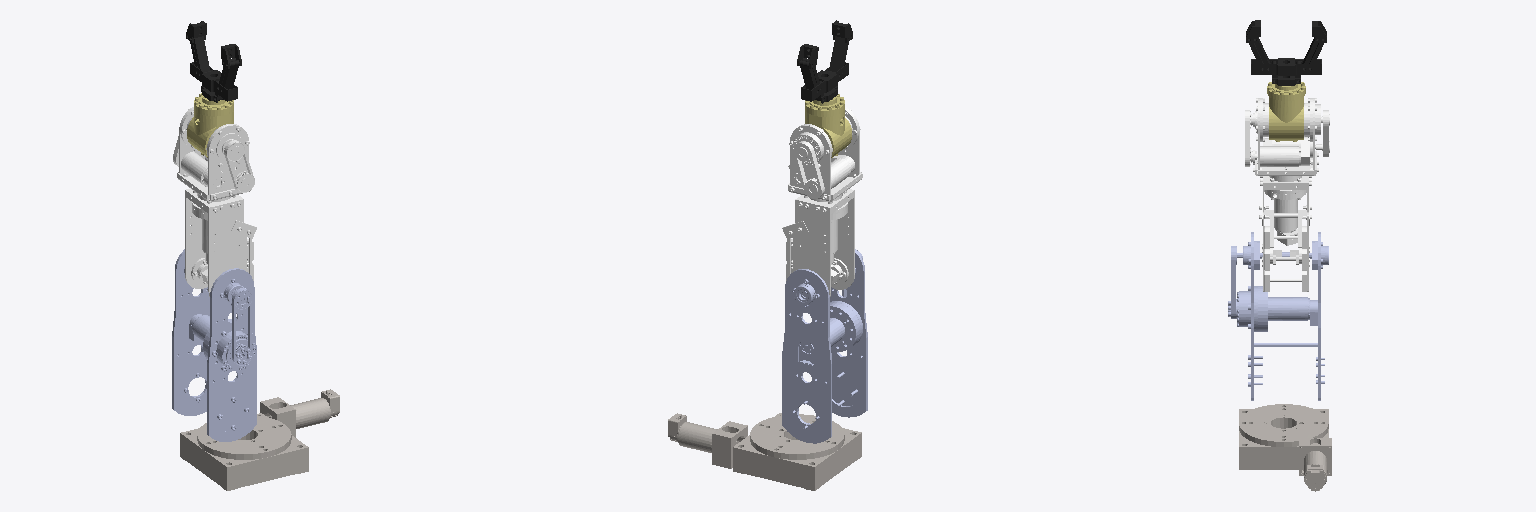
The robot description file, URDF, robot "redwall":
<?xml version="1.0" encoding="utf-8"?>
<!-- This URDF was automatically created by SolidWorks to URDF Exporter! Originally created by [author] ([email redacted]) 
     Commit Version: 1.6.0-4-g7f85cfe  Build Version: 1.6.7995.38578
     For more information, please see http://wiki.ros.org/sw_urdf_exporter -->
<robot
  name="redwall">
  <link
    name="base_link">
    <!--<inertial>
      <origin
        xyz="-0.060357 0.082702 -0.015929"
        rpy="0 0 0" />
      <mass
        value="1.2015" />
      <inertia
        ixx="0.0024916"
        ixy="-0.00026475"
        ixz="-3.8866E-05"
        iyy="0.0028144"
        iyz="-2.2136E-05"
        izz="0.0048028" />
    </inertial>-->
    <visual>
      <origin
        xyz="0 0 0"
        rpy="0 0 0" />
      <geometry>
        <mesh
          filename="package://redwall/meshes/base_link.STL" />
      </geometry>
      <material
        name="">
        <color
          rgba="0.77647 0.75686 0.73725 1" />
      </material>
    </visual>
    <collision>
      <origin
        xyz="0 0 0"
        rpy="0 0 0" />
      <geometry>
        <mesh
          filename="package://redwall/meshes/base_link.STL" />
      </geometry>
    </collision>
  </link>
  <link
    name="lumbar">
    <inertial>
      <origin
        xyz="0.0052643 -0.012448 0.077513"
        rpy="0 0 0" />
      <mass
        value="1.4502" />
      <inertia
        ixx="0.0013727"
        ixy="-1.0699E-06"
        ixz="2.2405E-05"
        iyy="0.0033655"
        iyz="4.3647E-06"
        izz="0.0034979" />
    </inertial>
    <visual>
      <origin
        xyz="0 0 0"
        rpy="0 0 0" />
      <geometry>
        <mesh
          filename="package://redwall/meshes/lumbar.STL" />
      </geometry>
      <material
        name="">
        <color
          rgba="0.79216 0.81961 0.93333 1" />
      </material>
    </visual>
    <collision>
      <origin
        xyz="0 0 0"
        rpy="0 0 0" />
      <geometry>
        <mesh
          filename="package://redwall/meshes/lumbar.STL" />
      </geometry>
    </collision>
  </link>
  <joint
    name="lumbar"
    type="revolute">
    <origin
      xyz="-0.076 0.076 -0.016"
      rpy="0 0 0" />
    <parent
      link="base_link" />
    <child
      link="lumbar" />
    <axis
      xyz="0 0 1" />
    <limit
      lower="-3.14"
      upper="3.14"
      effort="100"
      velocity="1" />
  </joint>
  <link
    name="big_arm">
    <inertial>
      <origin
        xyz="0.00011319 -0.12079 -0.034203"
        rpy="0 0 0" />
      <mass
        value="0.66863" />
      <inertia
        ixx="0.0015317"
        ixy="5.8543E-08"
        ixz="-8.2823E-09"
        iyy="0.00030356"
        iyz="-6.108E-08"
        izz="0.0016632" />
    </inertial>
    <visual>
      <origin
        xyz="0 0 0"
        rpy="0 0 0" />
      <geometry>
        <mesh
          filename="package://redwall/meshes/big_arm.STL" />
      </geometry>
      <material
        name="">
        <color
          rgba="0.79216 0.81961 0.93333 1" />
      </material>
    </visual>
    <collision>
      <origin
        xyz="0 0 0"
        rpy="0 0 0" />
      <geometry>
        <mesh
          filename="package://redwall/meshes/big_arm.STL" />
      </geometry>
    </collision>
  </link>
  <joint
    name="big_arm"
    type="revolute">
    <origin
      xyz="-0.053512 0.014 0.099023"
      rpy="-1.5708 0 0" />
    <parent
      link="lumbar" />
    <child
      link="big_arm" />
    <axis
      xyz="0 0 1" />
    <limit
      lower="-3.14"
      upper="3.14"
      effort="100"
      velocity="1" />
  </joint>
  <link
    name="small_arm">
    <inertial>
      <origin
        xyz="0.035276 -0.093957 5.5065E-06"
        rpy="0 0 0" />
      <mass
        value="0.67198" />
      <inertia
        ixx="0.00038552"
        ixy="2.1528E-05"
        ixz="-3.3983E-07"
        iyy="0.00032191"
        iyz="-1.0564E-07"
        izz="0.00041472" />
    </inertial>
    <visual>
      <origin
        xyz="0 0 0"
        rpy="0 0 0" />
      <geometry>
        <mesh
          filename="package://redwall/meshes/small_arm.STL" />
      </geometry>
      <material
        name="">
        <color
          rgba="1 1 1 1" />
      </material>
    </visual>
    <collision>
      <origin
        xyz="0 0 0"
        rpy="0 0 0" />
      <geometry>
        <mesh
          filename="package://redwall/meshes/small_arm.STL" />
      </geometry>
    </collision>
  </link>
  <joint
    name="small_arm"
    type="revolute">
    <origin
      xyz="1.2306E-05 -0.21498 -0.0105"
      rpy="0 0 -0.30425" />
    <parent
      link="big_arm" />
    <child
      link="small_arm" />
    <axis
      xyz="0 0 1" />
    <limit
      lower="-3.14"
      upper="3.14"
      effort="100"
      velocity="1" />
  </joint>
  <link
    name="wrist">
    <inertial>
      <origin
        xyz="0.00087927 0.002213 0.050733"
        rpy="0 0 0" />
      <mass
        value="1.7041" />
      <inertia
        ixx="0.001032"
        ixy="1.306E-05"
        ixz="-4.2399E-06"
        iyy="0.0003985"
        iyz="-3.0063E-05"
        izz="0.0010323" />
    </inertial>
    <visual>
      <origin
        xyz="0 0 0"
        rpy="0 0 0" />
      <geometry>
        <mesh
          filename="package://redwall/meshes/wrist.STL" />
      </geometry>
      <material
        name="">
        <color
          rgba="1 1 1 1" />
      </material>
    </visual>
    <collision>
      <origin
        xyz="0 0 0"
        rpy="0 0 0" />
      <geometry>
        <mesh
          filename="package://redwall/meshes/wrist.STL" />
      </geometry>
    </collision>
  </link>
  <joint
    name="wrist"
    type="revolute">
    <origin
      xyz="0.045929 -0.14627 0"
      rpy="1.5708 0 0.30425" />
    <parent
      link="small_arm" />
    <child
      link="wrist" />
    <axis
      xyz="0 0 1" />
    <limit
      lower="-3.14"
      upper="3.14"
      effort="100"
      velocity="1" />
  </joint>
  <link
    name="hand">
    <inertial>
      <origin
        xyz="-1.7337E-05 -0.026365 0.035987"
        rpy="0 0 0" />
      <mass
        value="0.41136" />
      <inertia
        ixx="0.00030793"
        ixy="6.8464E-07"
        ixz="3.2159E-08"
        iyy="0.00024664"
        iyz="-3.7274E-08"
        izz="0.00035796" />
    </inertial>
    <visual>
      <origin
        xyz="0 0 0"
        rpy="0 0 0" />
      <geometry>
        <mesh
          filename="package://redwall/meshes/hand.STL" />
      </geometry>
      <material
        name="">
        <color
          rgba="0.84314 0.81569 0.55686 1" />
      </material>
    </visual>
    <collision>
      <origin
        xyz="0 0 0"
        rpy="0 0 0" />
      <geometry>
        <mesh
          filename="package://redwall/meshes/hand.STL" />
      </geometry>
    </collision>
  </link>
  <joint
    name="hand"
    type="revolute">
    <origin
      xyz="0 -0.035 0.10019"
      rpy="-1.5708 0 0" />
    <parent
      link="wrist" />
    <child
      link="hand" />
    <axis
      xyz="0 0 1" />
    <limit
      lower="-3.14"
      upper="3.14"
      effort="100"
      velocity="1" />
  </joint>
  
  <link
    name="finger">
    <inertial>
      <origin
        xyz="-8.2325E-05 -7.2826E-06 0.051498"
        rpy="0 0 0" />
      <mass
        value="0.086637" />
      <inertia
        ixx="3.1953E-05"
        ixy="-1.6941E-20"
        ixz="-8.4703E-22"
        iyy="1.6358E-05"
        iyz="1.8166E-09"
        izz="2.484E-05" />
    </inertial>
    <visual>
      <origin
        xyz="0 0 0"
        rpy="0 0 0" />
      <geometry>
        <mesh
          filename="package://redwall/meshes/finger.STL" />
      </geometry>
      <material
        name="">
        <color
          rgba="0.2 0.2 0.2 1" />
      </material>
    </visual>
    <collision>
      <origin
        xyz="0 0 0"
        rpy="0 0 0" />
      <geometry>
        <mesh
          filename="package://redwall/meshes/finger.STL" />
      </geometry>
    </collision>
  </link>
  <joint
    name="finger"
    type="revolute">
    <origin
      xyz="0 -0.065987 0.036001"
      rpy="1.5708 0 0" />
    <parent
      link="hand" />
    <child
      link="finger" />
    <axis
      xyz="0 0 -1" />
    <limit
      lower="-3.14"
      upper="3.14"
      effort="100"
      velocity="1" />
  </joint>
</robot>

--- Render facts (derived) ---
The picture shows the robot from 3 angles, left to right: view 1: azimuth 30°, elevation 25°; view 2: azimuth 150°, elevation 25°; view 3: azimuth 270°, elevation 25°; orthographic projection.
Model redwall with 7 links and 6 joints (6 revolute), rooted at base_link, posed all joints at 0.
Visible links, largest first — view 1: big_arm, base_link, small_arm, wrist, finger, hand; view 2: big_arm, base_link, small_arm, wrist, finger, hand; view 3: base_link, big_arm, small_arm, wrist, finger, hand.
Link boxes in pixels (bbox=[...]): big_arm: bbox=[172, 249, 256, 441]; base_link: bbox=[180, 389, 339, 490]; small_arm: bbox=[185, 188, 256, 296]; wrist: bbox=[173, 107, 254, 200]; finger: bbox=[186, 21, 241, 102]; hand: bbox=[187, 93, 233, 157]; big_arm: bbox=[782, 249, 867, 443]; base_link: bbox=[668, 413, 861, 490]; small_arm: bbox=[782, 189, 854, 296]; wrist: bbox=[788, 107, 862, 201]; finger: bbox=[797, 20, 852, 103]; hand: bbox=[805, 94, 851, 157]; base_link: bbox=[1239, 404, 1331, 491]; big_arm: bbox=[1228, 232, 1328, 400]; small_arm: bbox=[1259, 176, 1311, 291]; wrist: bbox=[1245, 98, 1329, 175]; finger: bbox=[1246, 20, 1326, 85]; hand: bbox=[1267, 82, 1305, 141].
Bounding box of the posed robot: 0.2992 × 0.175 × 0.7741 m (x, y, z).
Meshes: 7 distinct files referenced, 6 mesh visuals loaded (6 binary STL); not drawn: 1 (reference not matched to a file when rendering).
